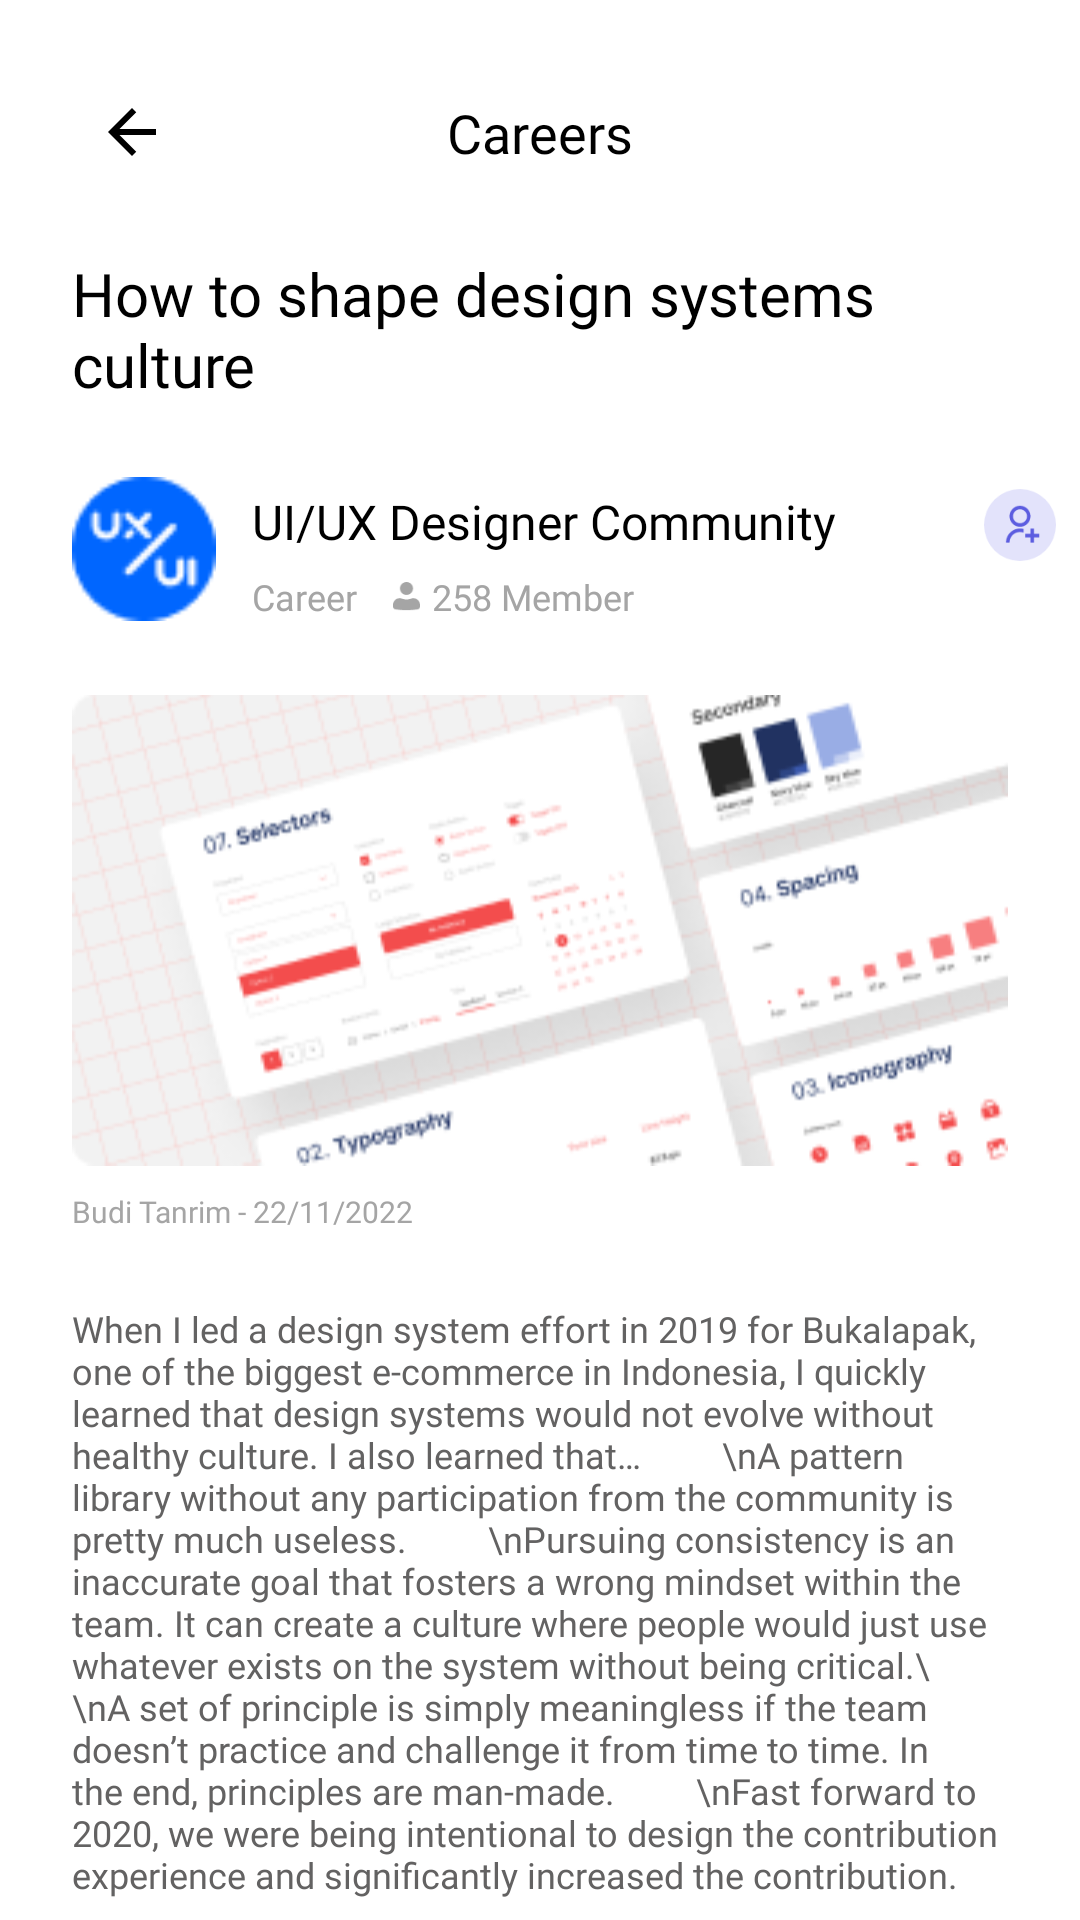

Screen size 1080w x 1920h. Icon name, then its box in pixels as (x1, y1, x2, y2):
arrow back: (108, 108, 156, 156)
fake ava post: (72, 477, 216, 621)
follow from post: (984, 489, 1056, 561)
